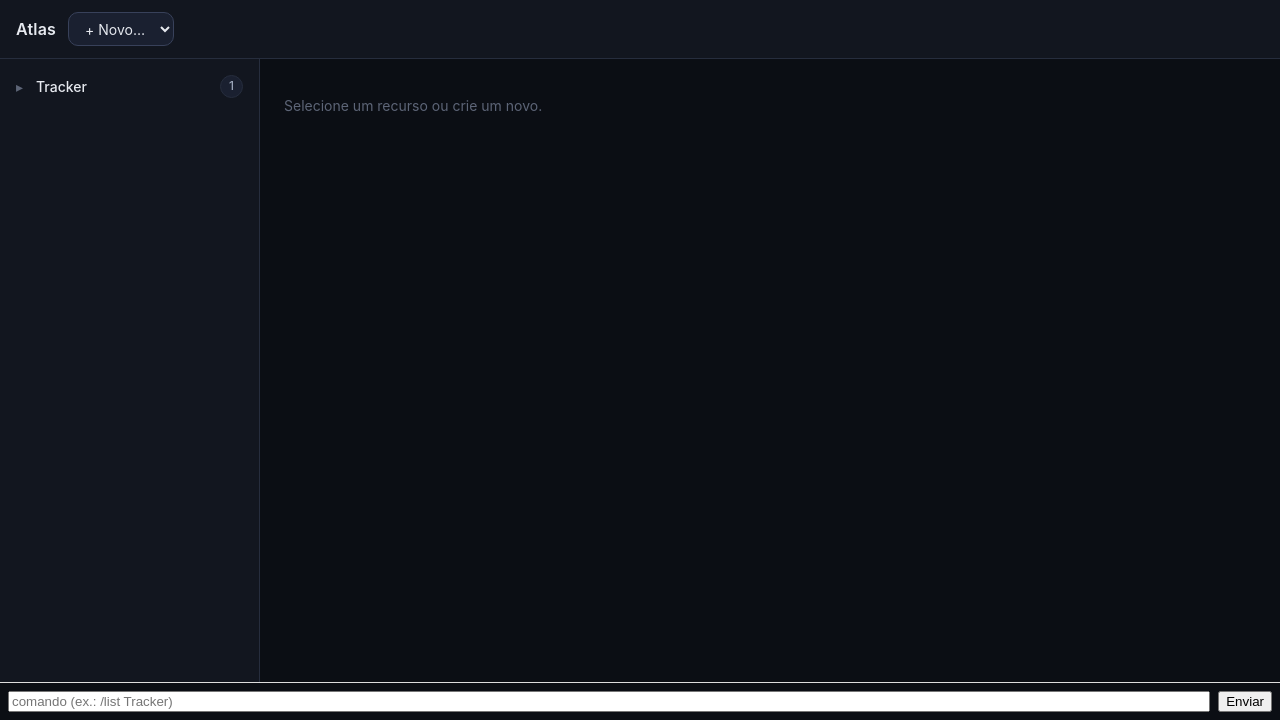
Test case: App › conectado: explorer + selecionar recurso mostra o card
Click the button "▸ Tracker 1": {"x": 130, "y": 86} 8,67 -> 251,106
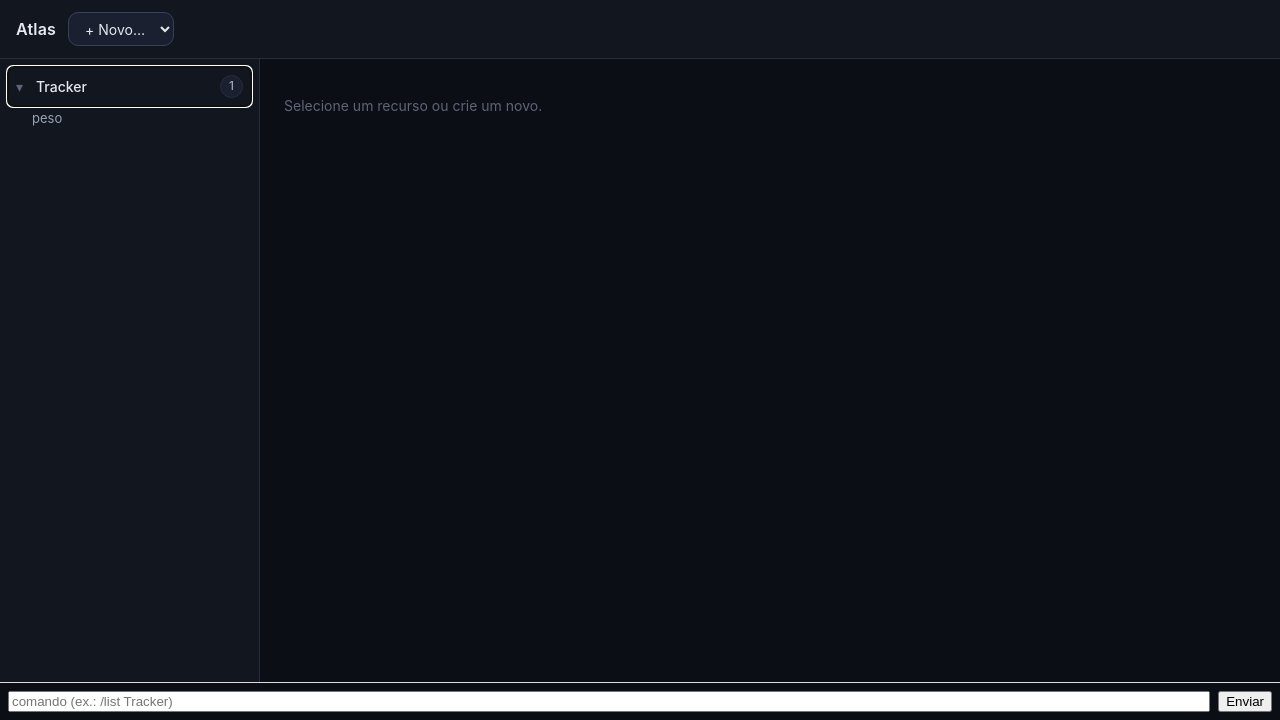
Click the button "peso": {"x": 130, "y": 118} 8,106 -> 251,130
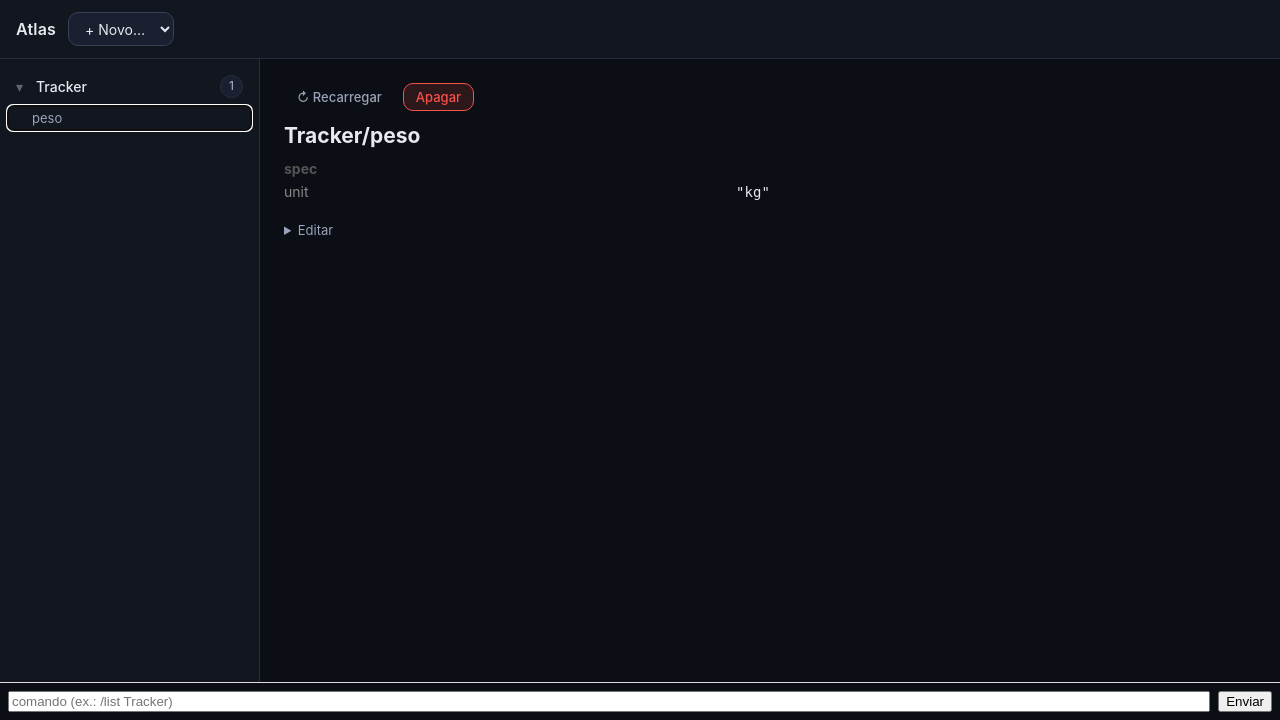
Now the heading "Tracker/peso" is shown, box 284,123 -> 420,148
